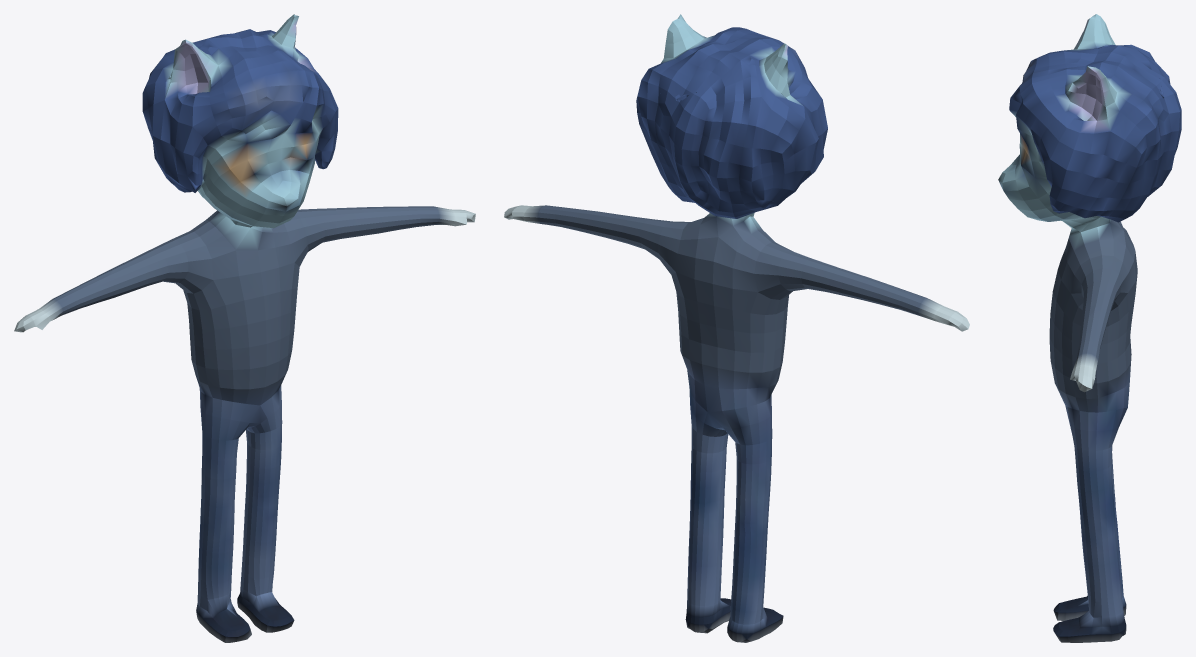
The model's file is lobito_low_final.fbx.
The picture shows the model from 3 angles, left to right: view 1: azimuth 30°, elevation 25°; view 2: azimuth 150°, elevation 25°; view 3: azimuth 270°, elevation 25°; orthographic projection.
Parts seen in each view (by area): view 1: lobito_low_retopo_fixed; view 2: lobito_low_retopo_fixed; view 3: lobito_low_retopo_fixed.
Boxes of the visible parts, x1=… form: lobito_low_retopo_fixed: x1=14, y1=14, x2=475, y2=642; lobito_low_retopo_fixed: x1=504, y1=14, x2=969, y2=642; lobito_low_retopo_fixed: x1=998, y1=14, x2=1181, y2=642.
Bounding box in the file's own units: 46.43 × 57.34 × 16.26.
